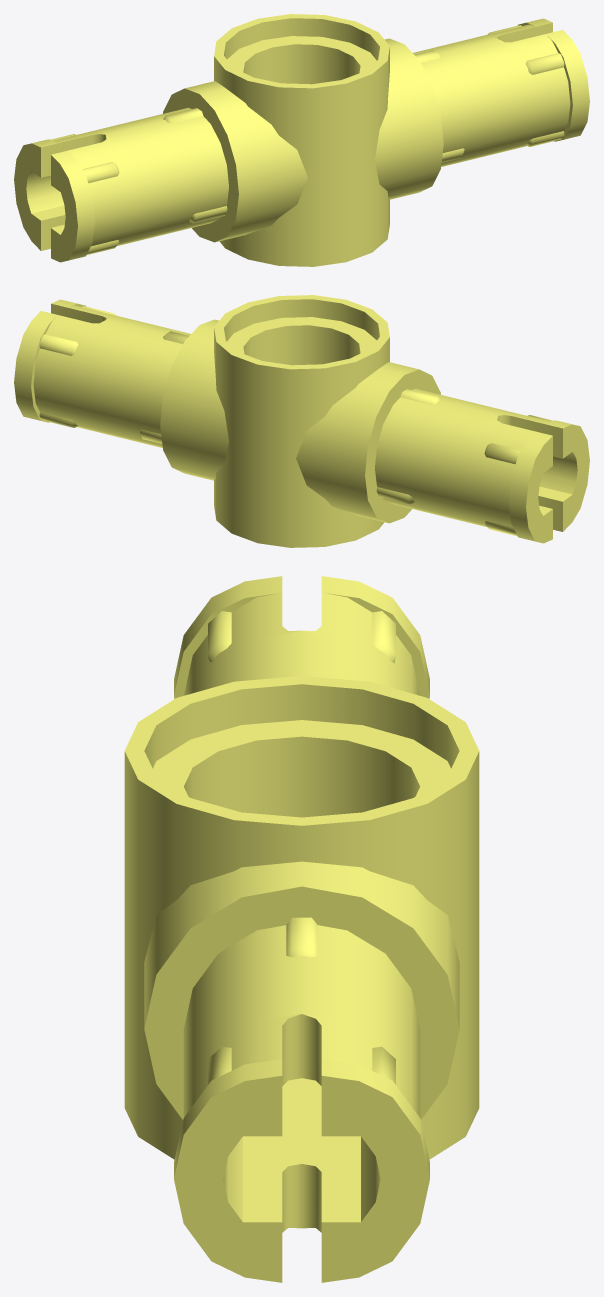
3 views of the same model, one above another, from view 1: azimuth 30°, elevation 25°; view 2: azimuth 150°, elevation 25°; view 3: azimuth 270°, elevation 25° (orthographic). The views are drawn at different scales.
Visible parts, largest first — view 1: 44874.dat; view 2: 44874.dat; view 3: 44874.dat.
Boxes of the visible parts, box(x1,y1,x2,y2) form: 44874.dat: box(14, 14, 589, 266); 44874.dat: box(14, 295, 589, 547); 44874.dat: box(124, 576, 479, 1282).
Bounding box in the file's own units: 0.024 × 0.008 × 0.0072.
